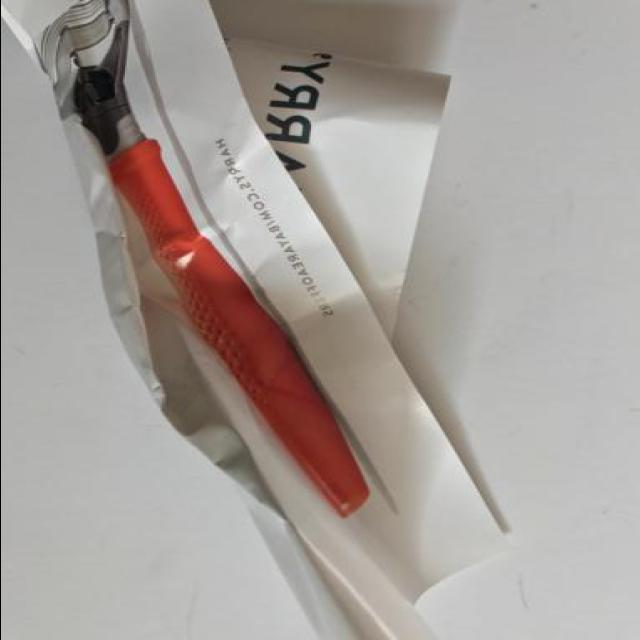kertas: (0, 0, 515, 640)
